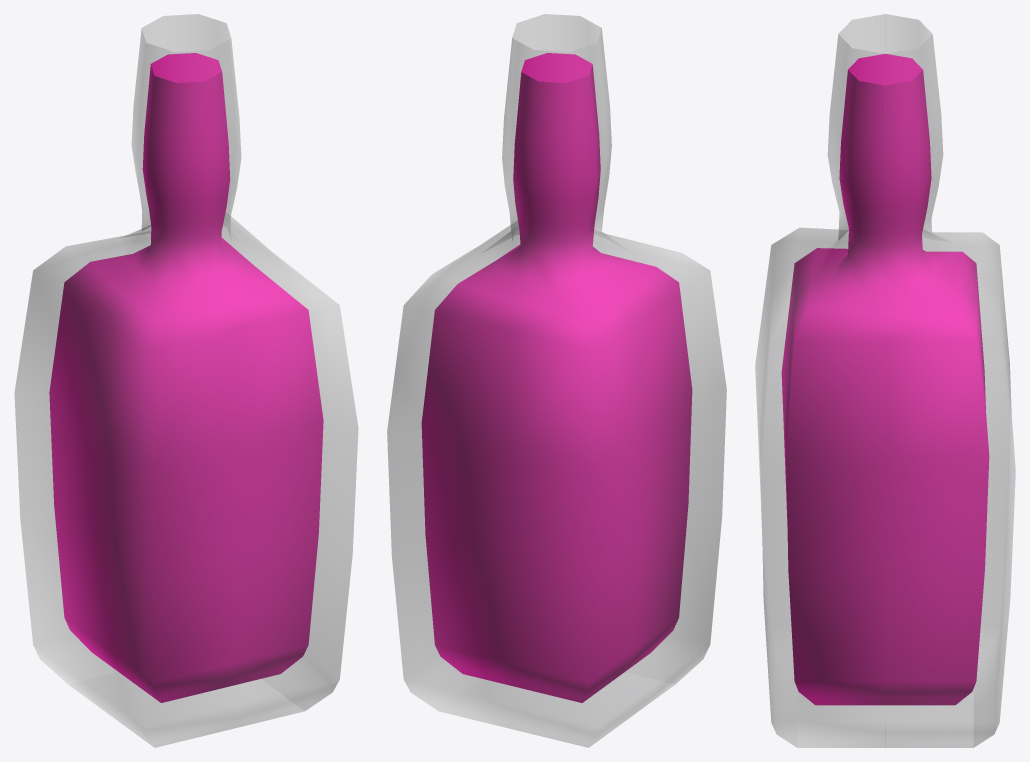
Rendered from bottle_3.fbx.
3 renders of one model, left to right at view 1: azimuth 30°, elevation 25°; view 2: azimuth 150°, elevation 25°; view 3: azimuth 270°, elevation 25°, orthographic.
Visible parts, largest first — view 1: Loft_2, Loft; view 2: Loft_2, Loft; view 3: Loft_2, Loft.
Boxes of the visible parts, x1=… form: Loft_2: x1=14, y1=14, x2=358, y2=747; Loft: x1=49, y1=53, x2=323, y2=702; Loft_2: x1=387, y1=14, x2=726, y2=747; Loft: x1=421, y1=53, x2=692, y2=702; Loft_2: x1=755, y1=14, x2=1015, y2=747; Loft: x1=781, y1=53, x2=989, y2=705.
Size of the model in its own units: 270 by 775 by 270.
